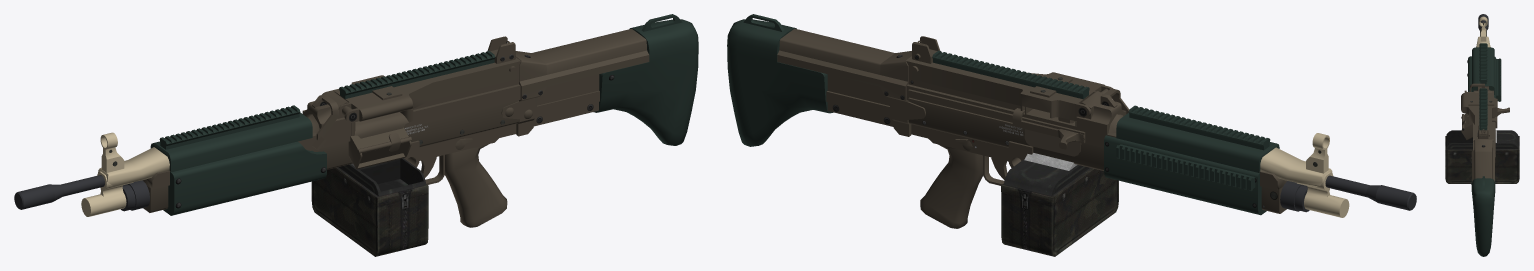
Rendered from weapon_combatmg.glb.
3 renders of one model, left to right at view 1: azimuth 30°, elevation 25°; view 2: azimuth 150°, elevation 25°; view 3: azimuth 270°, elevation 25°, orthographic. The views are drawn at different scales.
Parts seen in each view (by area): view 1: main_frame_combatmg, stock_combatmg, handguard_combatmg, magazine_combatmg, barrel_combatmg, grip_combatmg, front_sight_combatmg, rear_sight_combatmg; view 2: main_frame_combatmg, stock_combatmg, handguard_combatmg, magazine_combatmg, barrel_combatmg, grip_combatmg, front_sight_combatmg, rear_sight_combatmg; view 3: magazine_combatmg, stock_combatmg, main_frame_combatmg, handguard_combatmg, barrel_combatmg, front_sight_combatmg, rear_sight_combatmg.
Part boxes in pixels (x1,y1,x2,y2): main_frame_combatmg: [302, 51, 521, 169]; stock_combatmg: [515, 14, 698, 145]; handguard_combatmg: [150, 105, 326, 215]; magazine_combatmg: [311, 158, 428, 256]; barrel_combatmg: [14, 147, 169, 216]; grip_combatmg: [404, 124, 516, 227]; front_sight_combatmg: [100, 132, 124, 172]; rear_sight_combatmg: [487, 36, 515, 63]; main_frame_combatmg: [906, 50, 1129, 170]; stock_combatmg: [727, 14, 911, 146]; handguard_combatmg: [1104, 105, 1279, 215]; magazine_combatmg: [1001, 153, 1118, 256]; barrel_combatmg: [1260, 147, 1416, 217]; grip_combatmg: [911, 124, 1033, 228]; front_sight_combatmg: [1306, 133, 1329, 173]; rear_sight_combatmg: [912, 36, 940, 63]; magazine_combatmg: [1445, 130, 1519, 183]; stock_combatmg: [1471, 139, 1495, 256]; main_frame_combatmg: [1461, 83, 1509, 157]; handguard_combatmg: [1467, 43, 1501, 101]; barrel_combatmg: [1476, 14, 1490, 47]; front_sight_combatmg: [1479, 16, 1487, 41]; rear_sight_combatmg: [1477, 125, 1489, 138].
Bounding box in the file's own units: 103 × 25.98 × 17.49.
5 materials, 5 textured.
